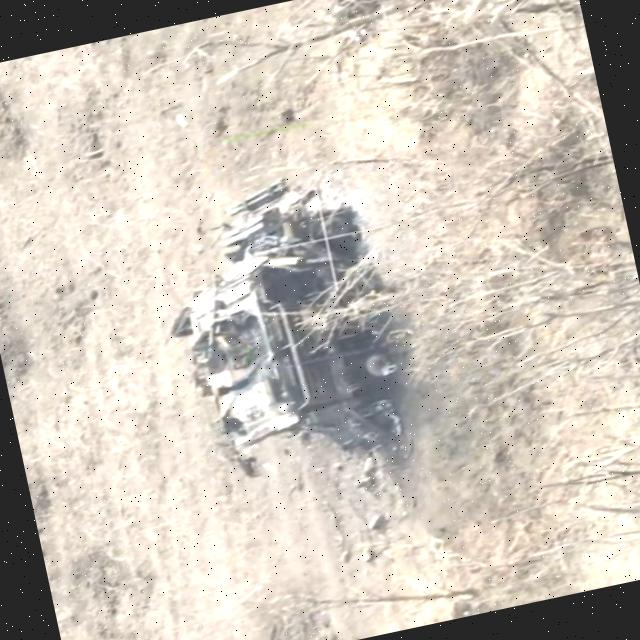Destroyed: (144, 161, 423, 489)
